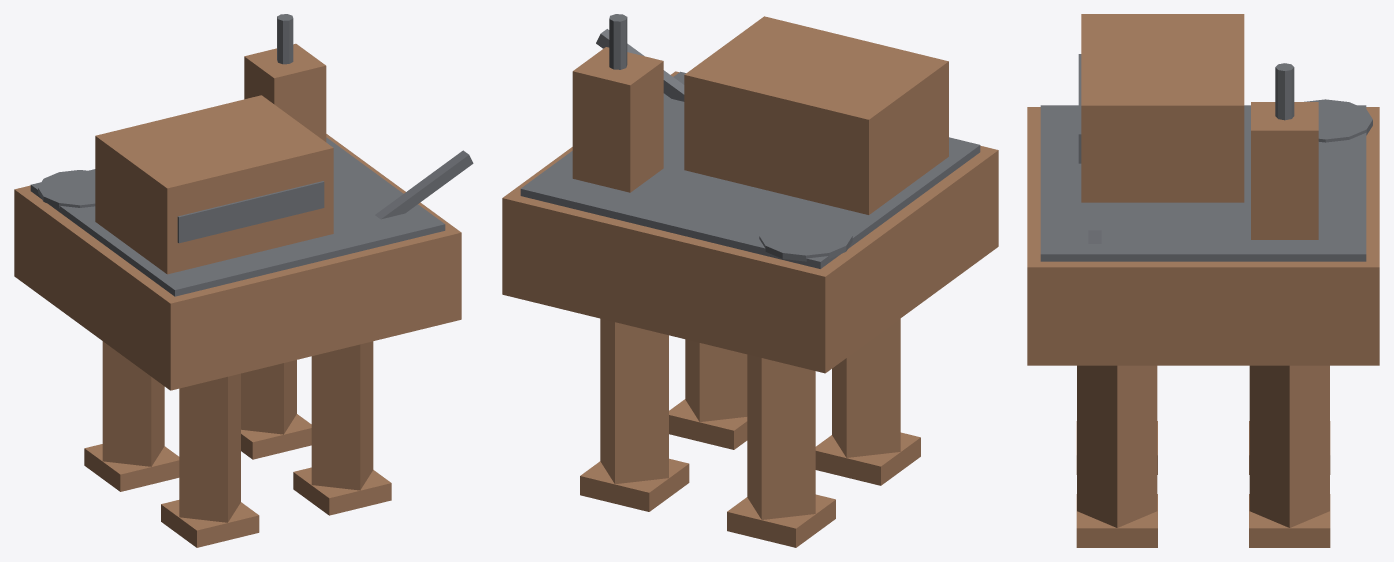
Rendered from dead_rig_script.glb.
3 views of the same model, side by side, from view 1: azimuth 30°, elevation 25°; view 2: azimuth 150°, elevation 25°; view 3: azimuth 270°, elevation 25° (orthographic). The views are drawn at different scales.
Parts seen in each view (by area): view 1: Cube.008, Cube.010, Cube.009, Cube.006, Cube.004, Cube.002, Cube.012, Cube.011, Cube, Cube.005, Cube.007, Cube.003 (+4 smaller); view 2: Cube.008, Cube.010, Cube.009, Cube.012, Cube, Cube.002, Cube.004, Cube.006, Cylinder.001, Cube.001, Cube.003, Cube.005 (+3 smaller); view 3: Cube.008, Cube.010, Cube.009, Cube, Cube.006, Cube.012, Cube.001, Cube.007, Cylinder.001, Cylinder, Cube.011.
Boxes of the visible parts, bbox=[...] form: Cube.008: bbox=[14, 134, 461, 390]; Cube.010: bbox=[95, 95, 333, 274]; Cube.009: bbox=[30, 137, 445, 296]; Cube.006: bbox=[311, 341, 373, 490]; Cube.004: bbox=[179, 373, 240, 522]; Cube.002: bbox=[102, 341, 164, 466]; Cube.012: bbox=[244, 43, 326, 141]; Cube.011: bbox=[177, 181, 324, 243]; Cube: bbox=[241, 360, 296, 434]; Cube.005: bbox=[161, 500, 259, 547]; Cube.007: bbox=[293, 467, 391, 515]; Cube.003: bbox=[84, 444, 179, 491]; Cube.008: bbox=[502, 71, 998, 373]; Cube.010: bbox=[684, 16, 948, 214]; Cube.009: bbox=[520, 71, 980, 268]; Cube.012: bbox=[572, 47, 663, 192]; Cube: bbox=[600, 318, 668, 484]; Cube.002: bbox=[747, 354, 815, 519]; Cube.004: bbox=[832, 318, 900, 457]; Cube.006: bbox=[685, 339, 747, 421]; Cylinder.001: bbox=[759, 216, 852, 261]; Cube.001: bbox=[580, 458, 689, 511]; Cube.003: bbox=[727, 494, 835, 547]; Cube.005: bbox=[815, 432, 920, 485]; Cube.008: bbox=[1027, 107, 1379, 365]; Cube.010: bbox=[1081, 14, 1244, 202]; Cube.009: bbox=[1040, 105, 1366, 261]; Cube: bbox=[1249, 365, 1329, 527]; Cube.006: bbox=[1077, 365, 1157, 527]; Cube.012: bbox=[1251, 102, 1318, 239]; Cube.001: bbox=[1249, 494, 1330, 547]; Cube.007: bbox=[1076, 494, 1157, 547]; Cylinder.001: bbox=[1304, 99, 1372, 142]; Cylinder: bbox=[1275, 63, 1294, 120]; Cube.011: bbox=[1078, 54, 1081, 163].
Size of the model in its own units: 31.74 by 38.5 by 26.
